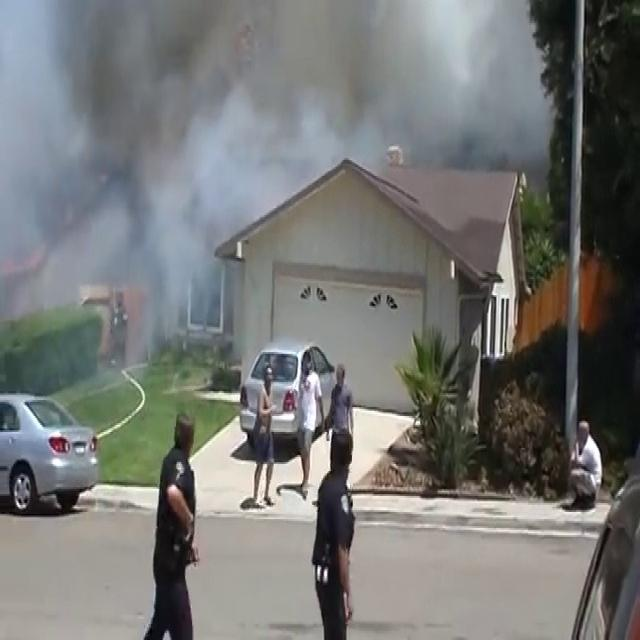Smoke: (3, 0, 307, 295), (296, 0, 565, 208)
